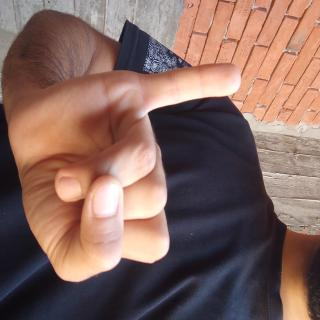MEEM: (43, 98, 216, 320)
